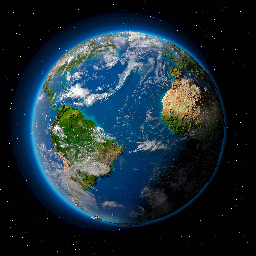planet: (27, 28, 226, 231)
